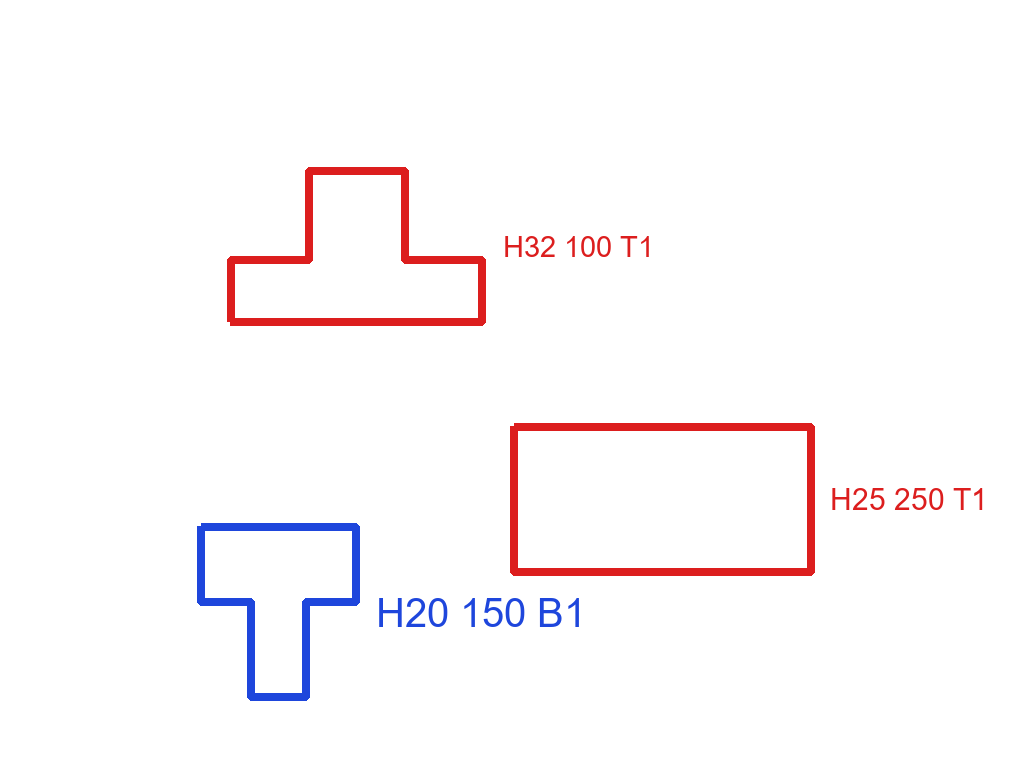shape: (509, 420, 816, 578), (225, 165, 489, 328), (195, 521, 362, 703)
text: (374, 596, 588, 629), (828, 486, 990, 512), (501, 234, 656, 259)
